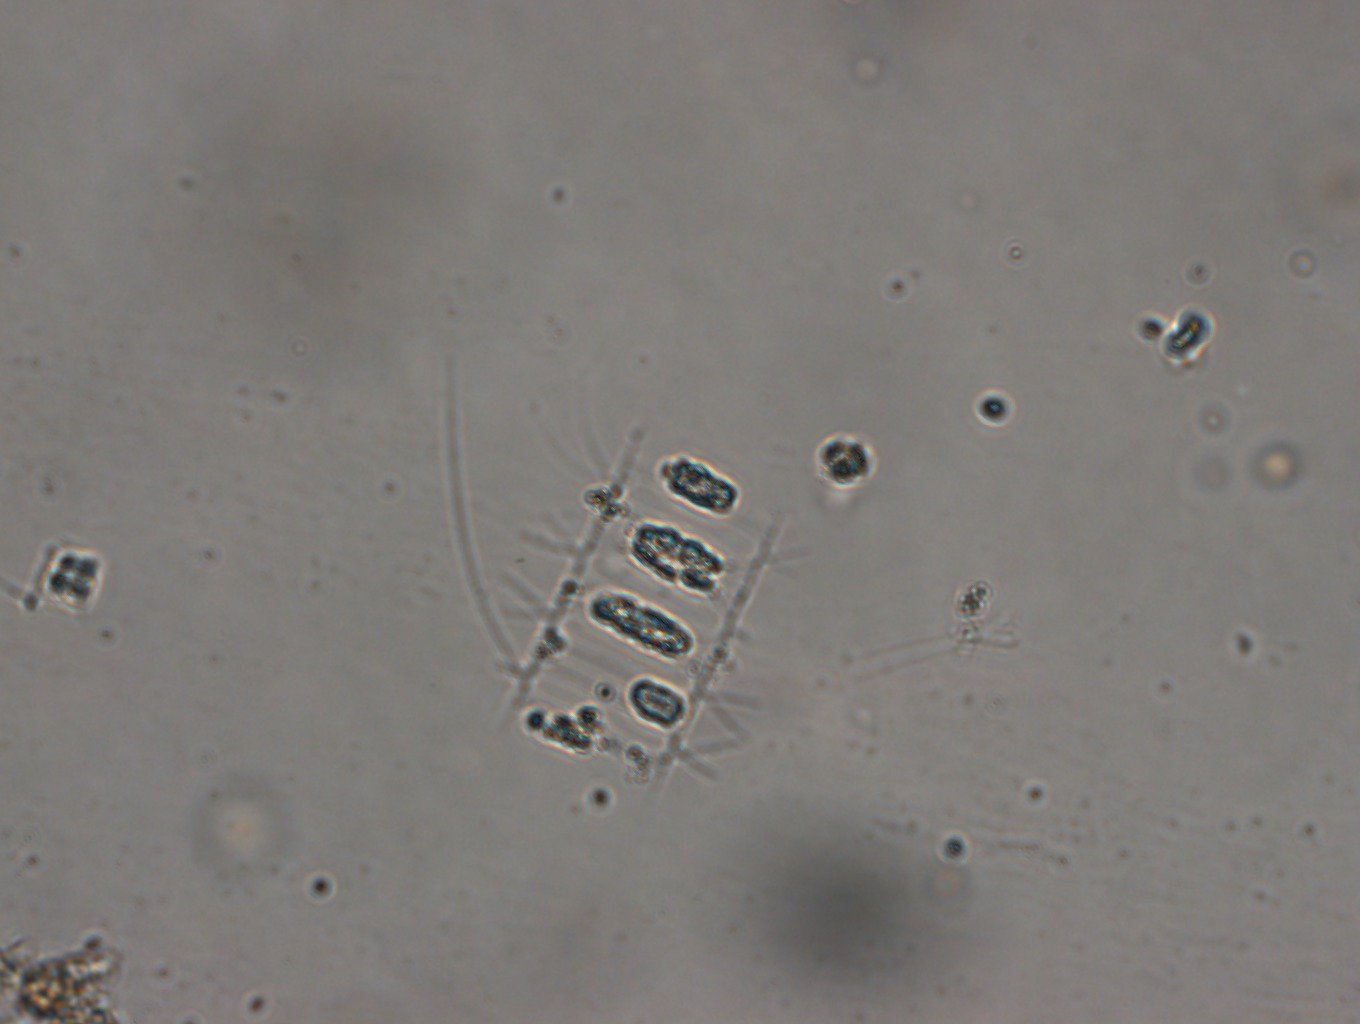chaetoceros: (477, 423, 781, 785)
